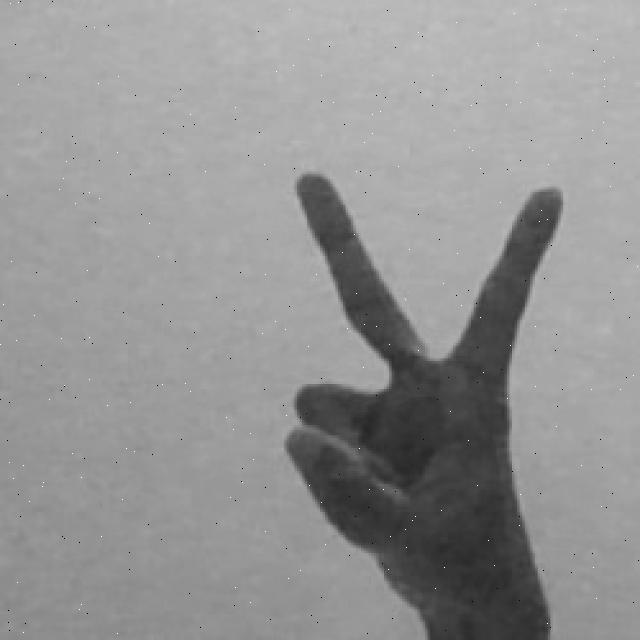V: (277, 165, 569, 640)
